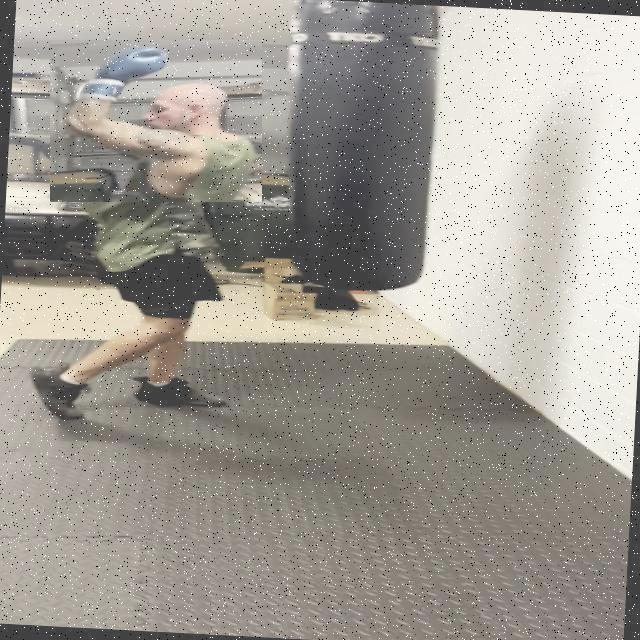punch: (50, 40, 262, 202)
